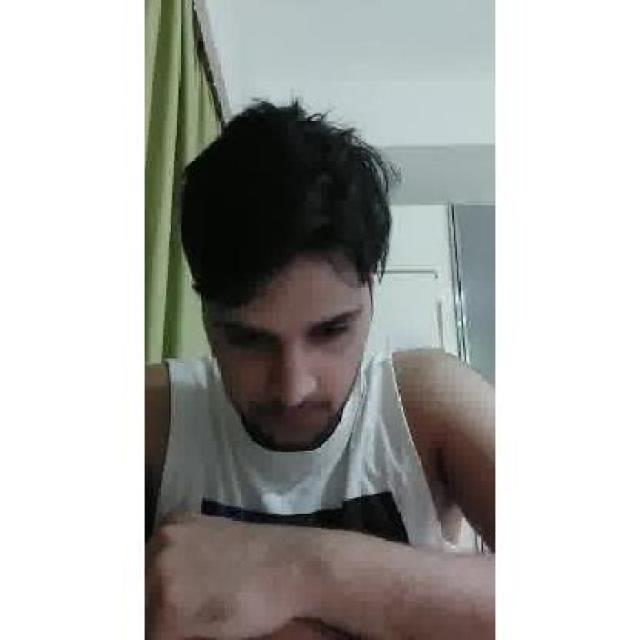inattentif: (184, 101, 376, 453)
